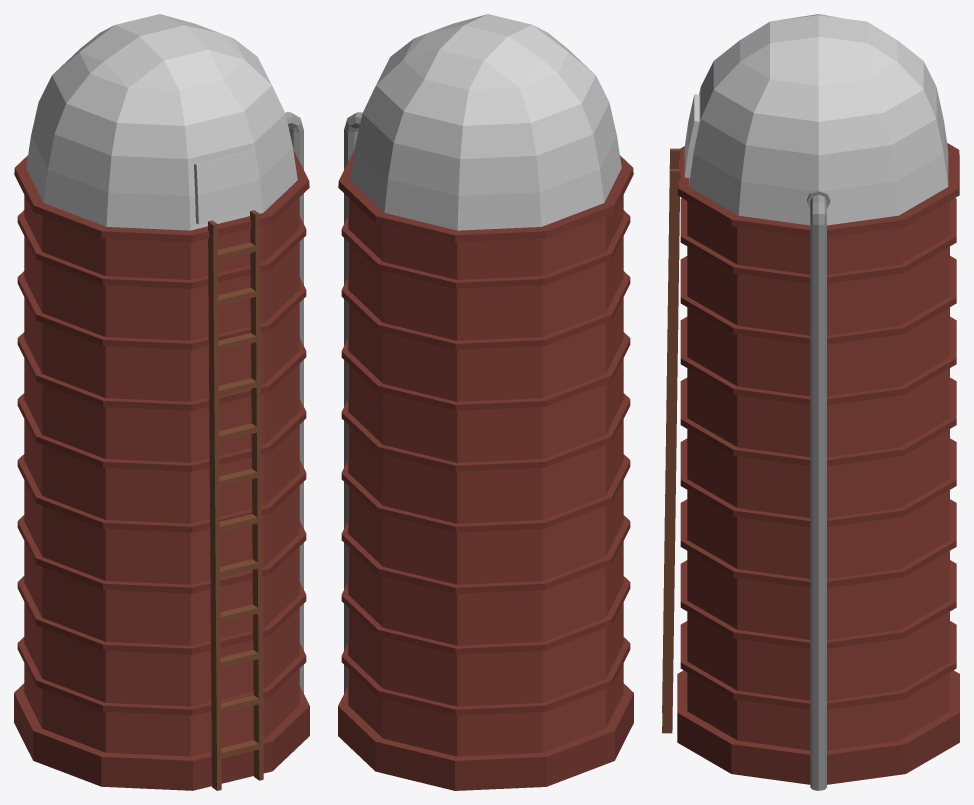
Rendered from Silo.gltf.
3 views of the same model, side by side, from view 1: azimuth 30°, elevation 25°; view 2: azimuth 150°, elevation 25°; view 3: azimuth 270°, elevation 25° (orthographic).
Parts seen in each view (by area): view 1: Silo_Cylinder.007; view 2: Silo_Cylinder.007; view 3: Silo_Cylinder.007.
Boxes of the visible parts, x1,y1,x2,y2 form: Silo_Cylinder.007: (14, 14, 309, 790); Silo_Cylinder.007: (338, 14, 633, 790); Silo_Cylinder.007: (662, 14, 959, 790).
Bounding box in the file's own units: 3.67 × 9.07 × 3.51.
